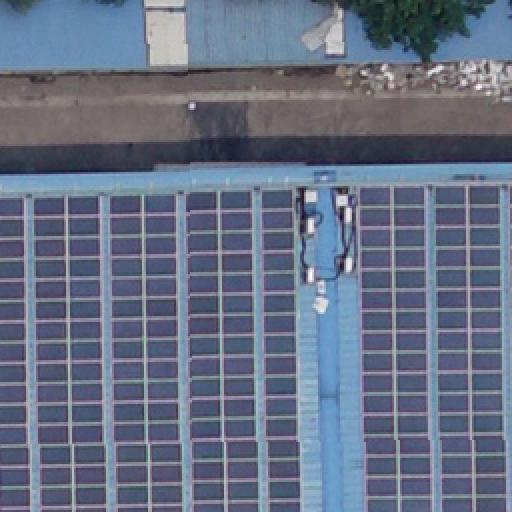solar-panel: (32, 192, 108, 512), (435, 184, 509, 512), (359, 185, 433, 511), (107, 192, 181, 512), (186, 192, 258, 512), (261, 188, 299, 512), (1, 193, 31, 511), (508, 185, 512, 375)
